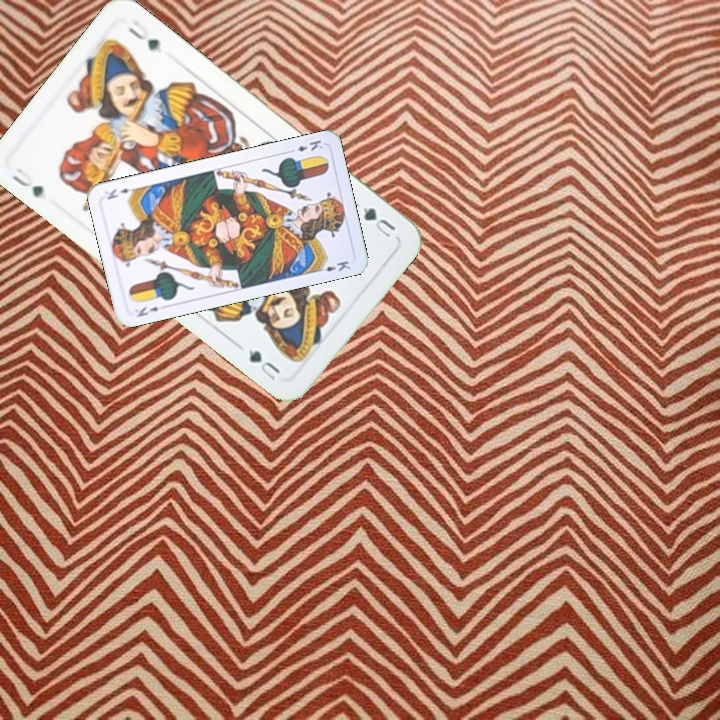EK: (285, 136, 326, 156), (133, 302, 161, 320)
GU: (356, 202, 399, 241), (7, 164, 46, 200)
